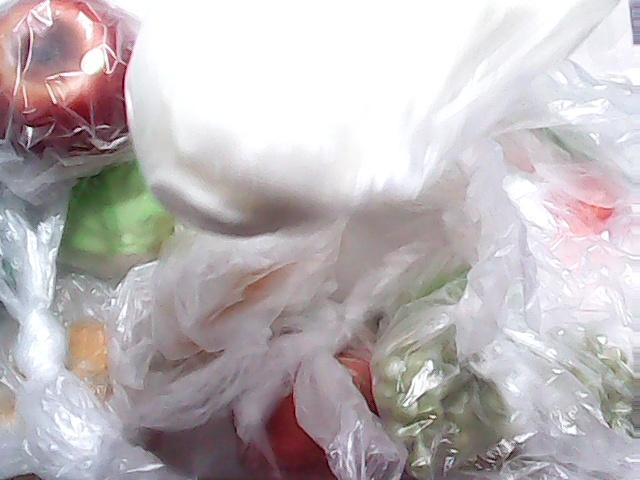apple: (0, 0, 168, 164)
cabbage: (49, 170, 178, 276)
carrot: (496, 118, 640, 274)
grape: (376, 271, 632, 477)
peach: (222, 348, 376, 480)
potato: (0, 314, 144, 478)
